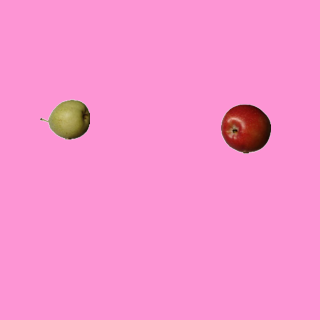Apple Braeburn: (220, 103, 270, 153)
Pear: (39, 94, 89, 144)
